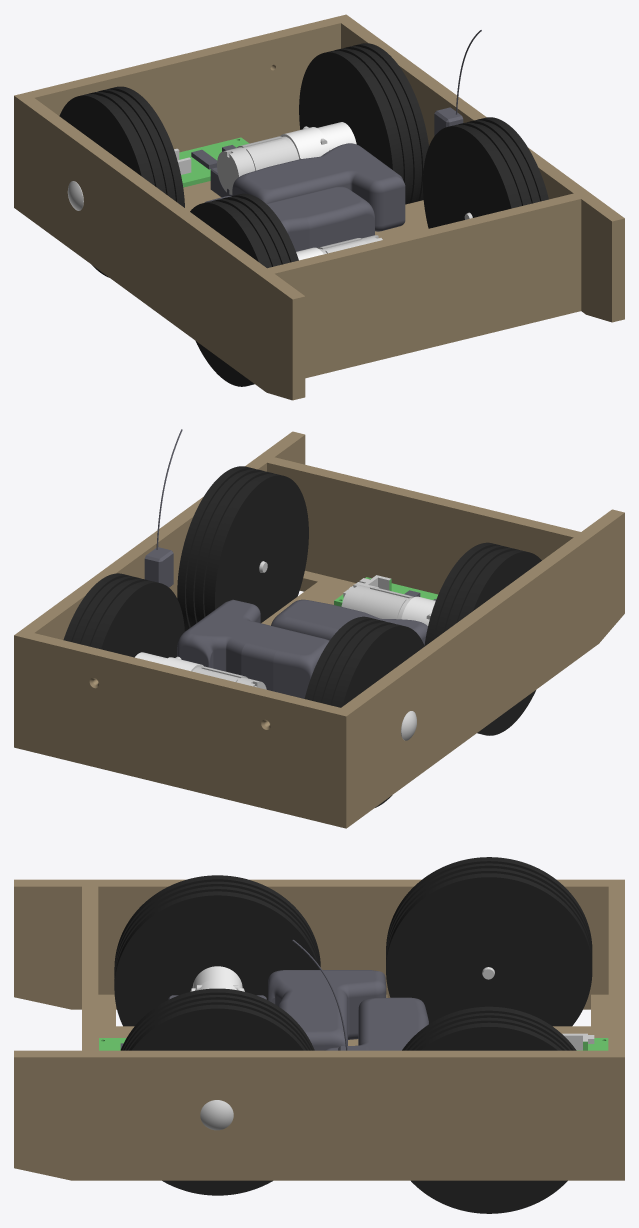
Rendered from Chariot_Model.gltf.
3 views of the same model, one above another, from view 1: azimuth 30°, elevation 25°; view 2: azimuth 150°, elevation 25°; view 3: azimuth 270°, elevation 25° (orthographic). The views are drawn at different scales.
Parts seen in each view (by area): view 1: Chariot2025 v2.002; view 2: Chariot2025 v2.002; view 3: Chariot2025 v2.002.
Part boxes in pixels (x1=…): Chariot2025 v2.002: x1=14, y1=14, x2=624, y2=400; Chariot2025 v2.002: x1=14, y1=429, x2=624, y2=828; Chariot2025 v2.002: x1=14, y1=857, x2=624, y2=1213.
Size of the model in its own units: 320 by 226 by 450.
